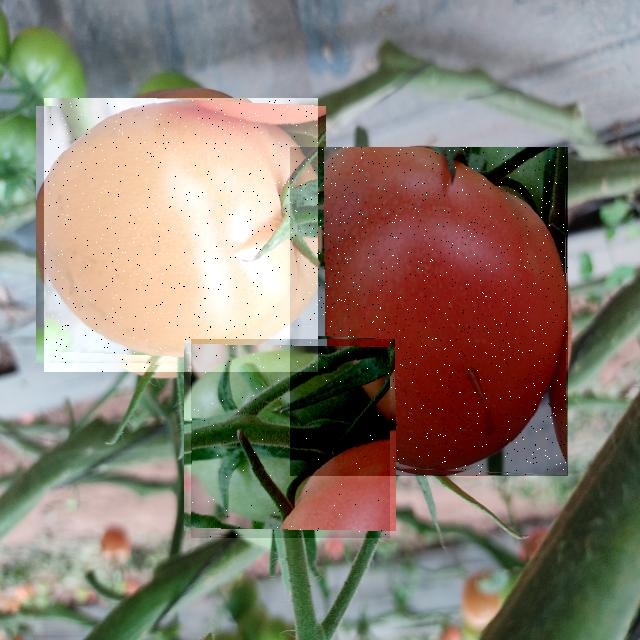Ripe Tomato: (290, 147, 568, 476)
Unripe Tomato: (44, 98, 318, 372), (191, 339, 390, 538)
